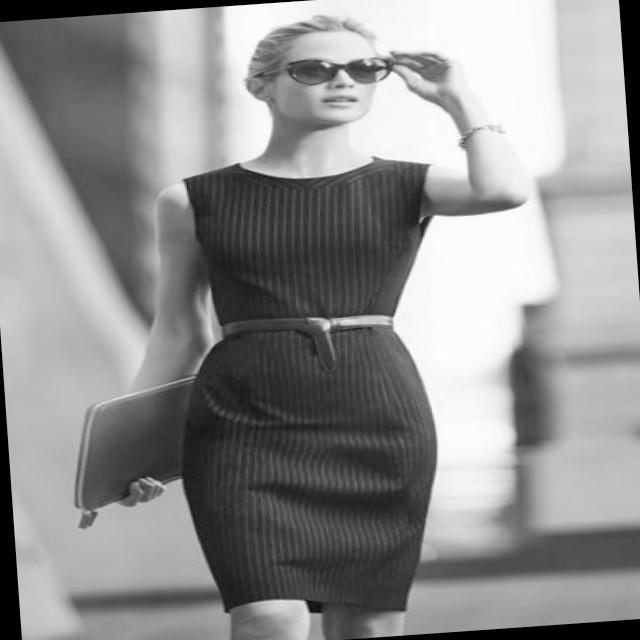glasses: (253, 52, 394, 92)
